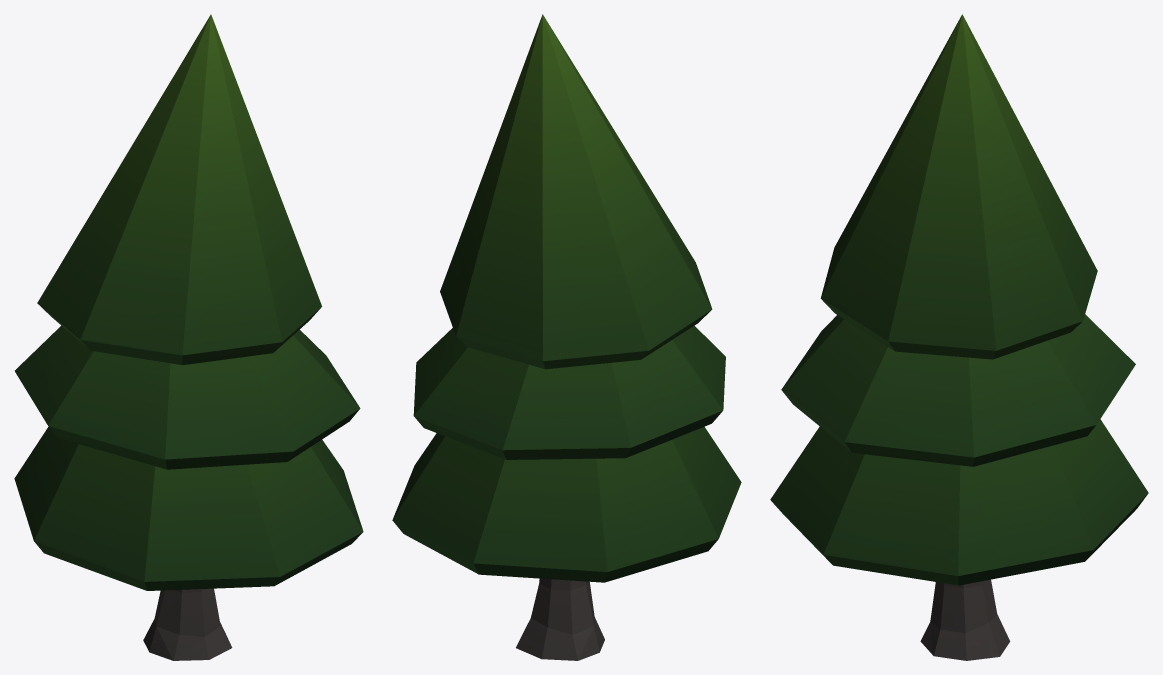
The model's file is PineTree_F.fbx.
3 renders of one model, left to right at view 1: azimuth 30°, elevation 25°; view 2: azimuth 150°, elevation 25°; view 3: azimuth 270°, elevation 25°, orthographic. The views are drawn at different scales.
Visible parts, largest first — view 1: PineTree_F; view 2: PineTree_F; view 3: PineTree_F.
Part boxes in pixels (x1,y1,x2,y2): PineTree_F: [14, 14, 363, 660]; PineTree_F: [392, 14, 741, 660]; PineTree_F: [770, 14, 1148, 660].
Size of the model in its own units: 246 by 477 by 256.
